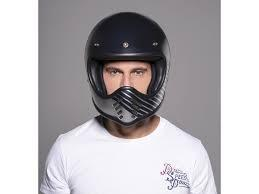helmet: (83, 10, 172, 129)
